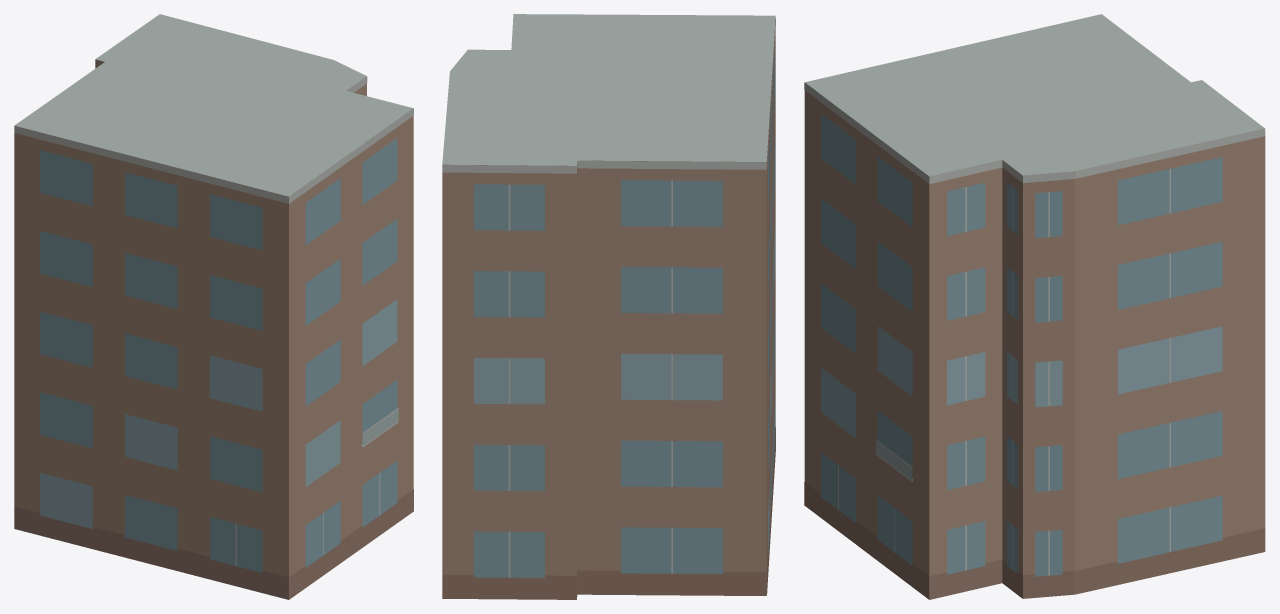
Rendered from survey-upis-32659076.glb.
The picture shows the model from 3 angles, left to right: view 1: azimuth 30°, elevation 25°; view 2: azimuth 150°, elevation 25°; view 3: azimuth 270°, elevation 25°; orthographic projection. The views are drawn at different scales.
Parts seen in each view (by area): view 1: survey-upis-32659076.tmp; view 2: survey-upis-32659076.tmp; view 3: survey-upis-32659076.tmp.
Boxes of the visible parts, x1=… form: survey-upis-32659076.tmp: x1=14, y1=14, x2=413, y2=599; survey-upis-32659076.tmp: x1=442, y1=14, x2=775, y2=599; survey-upis-32659076.tmp: x1=804, y1=14, x2=1265, y2=599.
Size of the model in its own units: 11.17 by 13.55 by 13.38.
